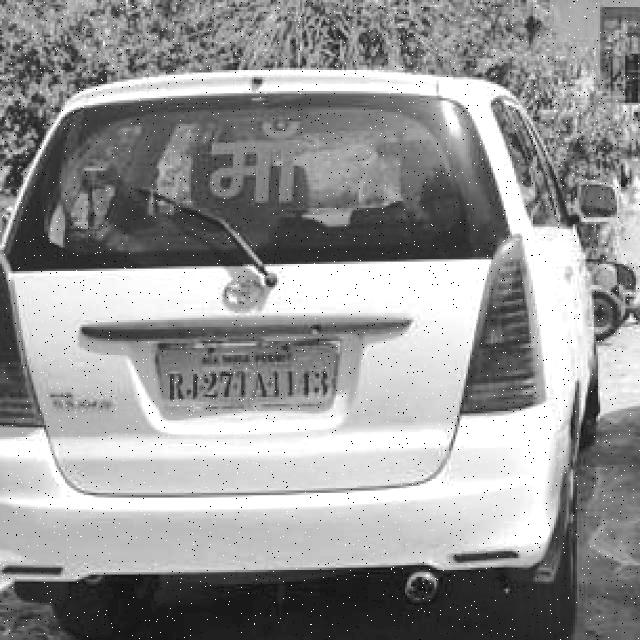Car: (0, 74, 598, 640)
